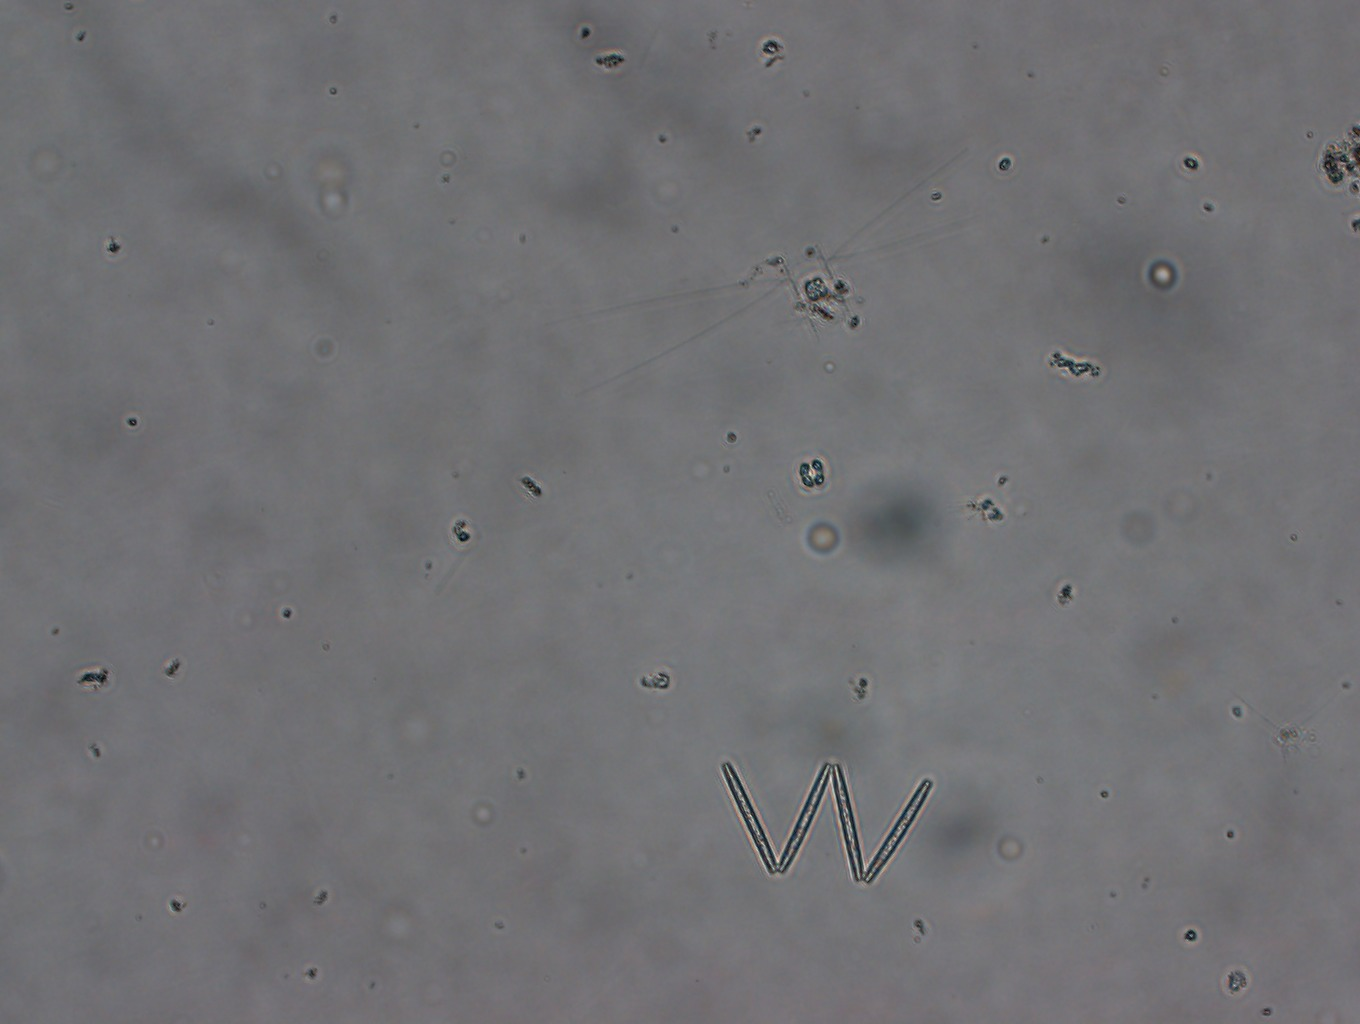chaetoceros: (559, 150, 990, 392)
thalassionema nitzschioides: (718, 758, 935, 884)
